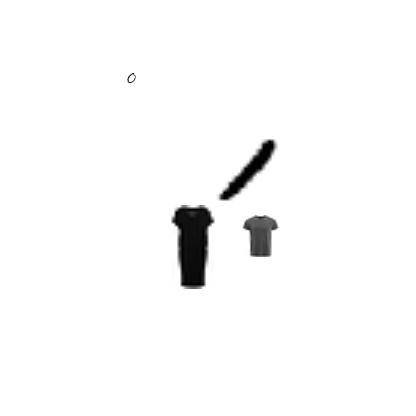0: (124, 71, 138, 85)
1: (205, 128, 289, 212)
Dress: (151, 205, 235, 289)
T-shirt/top: (240, 215, 282, 257)
